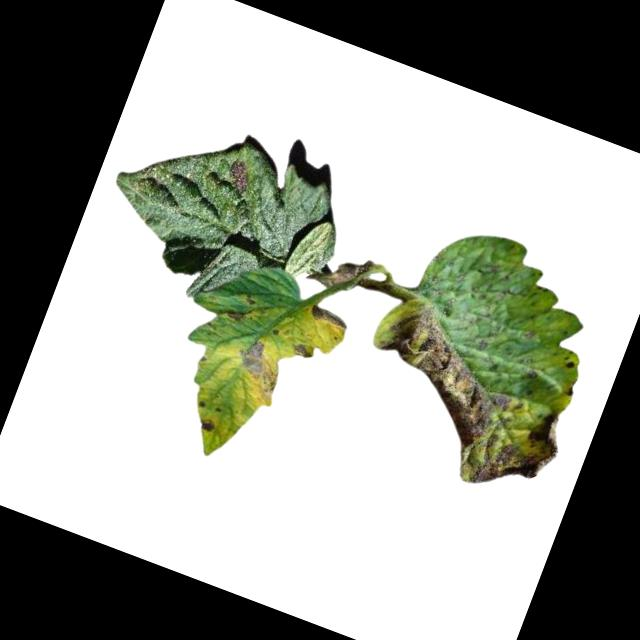Early_blight: (339, 290, 590, 509), (225, 335, 290, 406), (221, 157, 257, 195), (307, 301, 349, 330), (293, 339, 319, 361), (224, 306, 246, 324), (199, 414, 218, 434)
